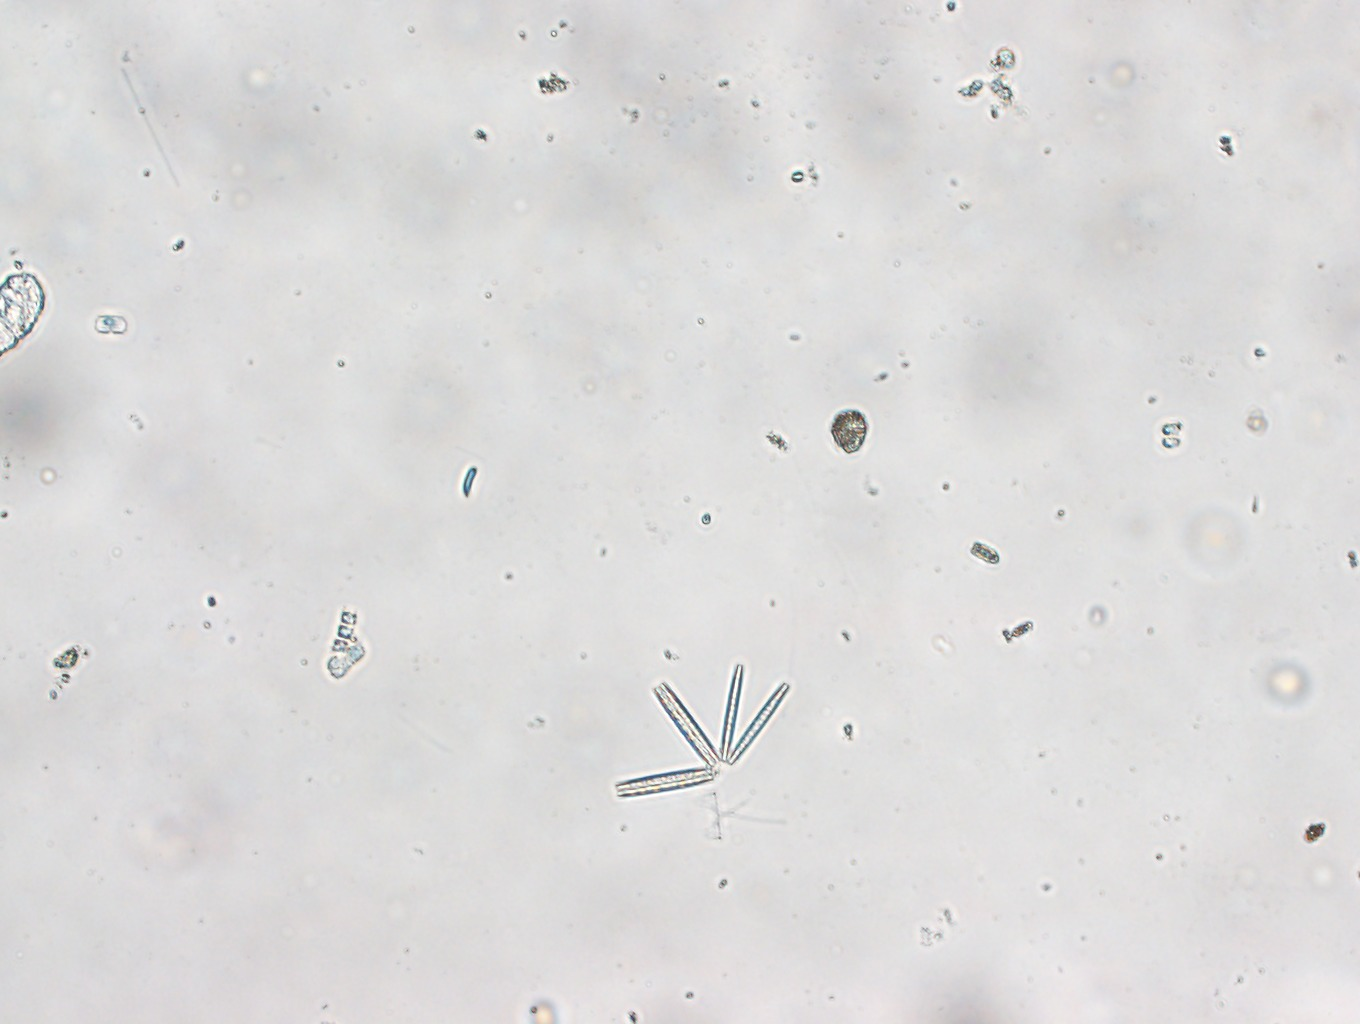thalassionema nitzschioides: (612, 664, 789, 801)
